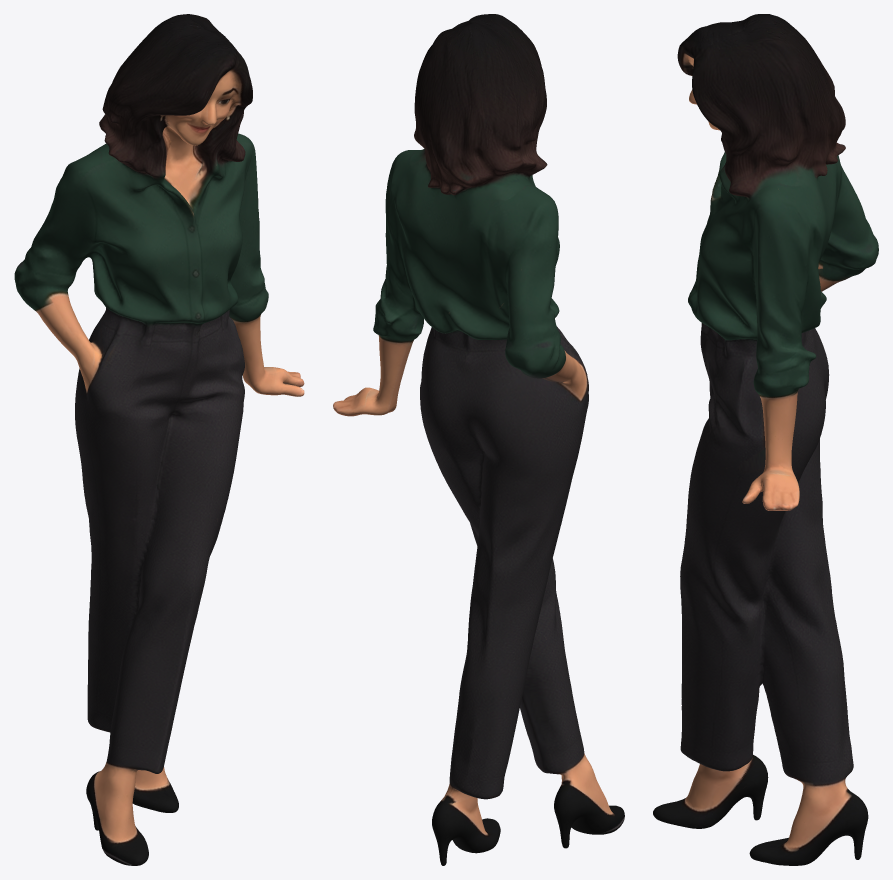
File: commercial_base.glb
3 views of the same model, side by side, from view 1: azimuth 30°, elevation 25°; view 2: azimuth 150°, elevation 25°; view 3: azimuth 270°, elevation 25° (orthographic). The views are drawn at different scales.
Size of the model in its own units: 0.6324 by 1.9 by 0.4563.
Materials: 1 (1 with a texture image).
